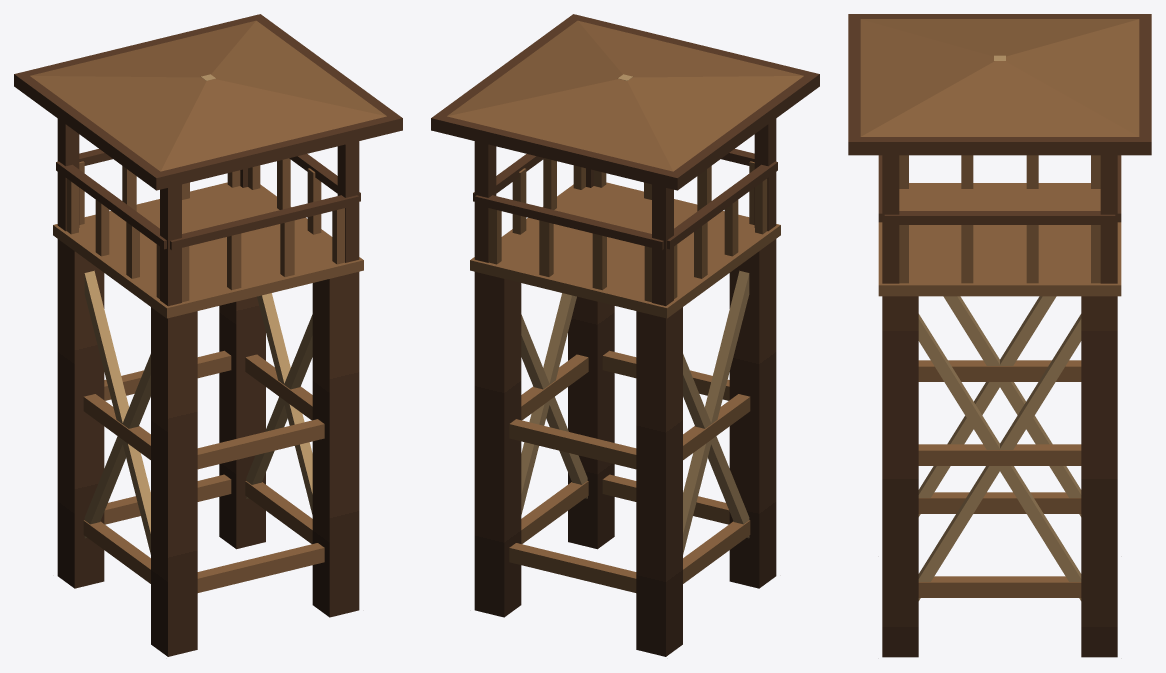
File: watchtower_wood_manned.glb
3 renders of one model, left to right at view 1: azimuth 30°, elevation 25°; view 2: azimuth 150°, elevation 25°; view 3: azimuth 270°, elevation 25°, orthographic. The views are drawn at different scales.
Size of the model in its own units: 2.5 by 5 by 2.5.
1 material, 1 textured.
